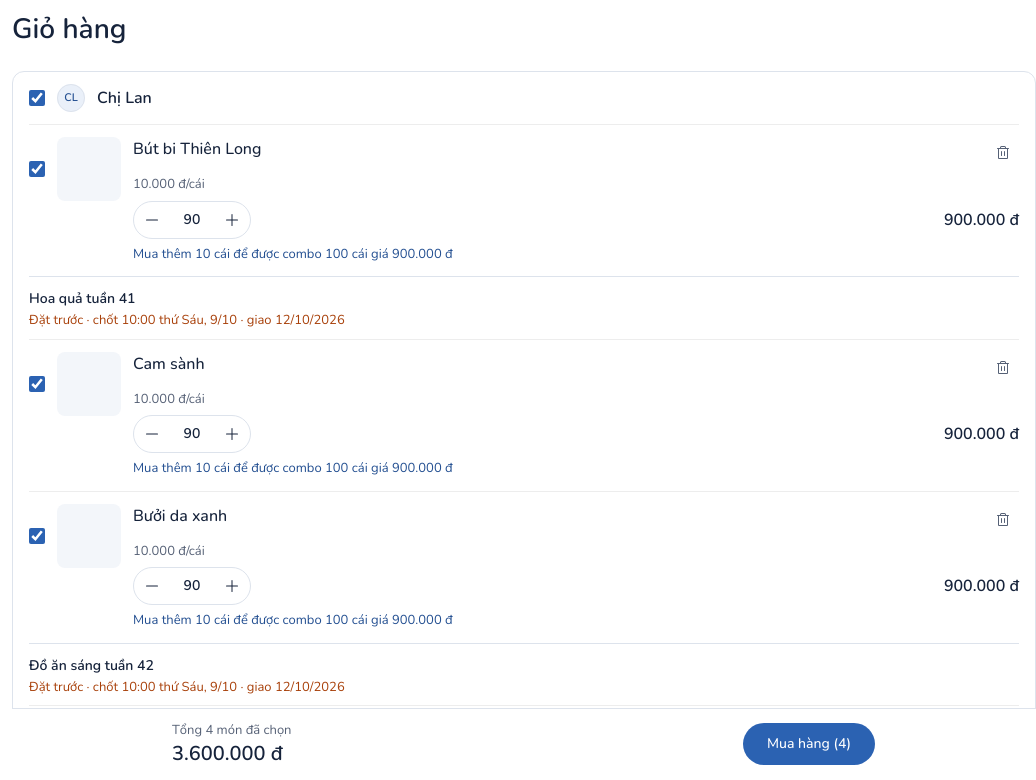
it: CartPage › groups pre-order products under their round, with its dates
This screenshot has width=1036, height=780.
expect the text "Đặt trước · chốt 10:00 thứ Sáu, 9/10 · giao 12/10/2026" below "Hoa quả tuần 41" is shown: met, box [29,311,345,329]
expect the link "Cam sành" is shown: met, box [133,352,205,376]
Step 1. Click the checkbox named "Chọn tất cả hàng của Chị Lan" → (37, 98), box [29,90,45,106]
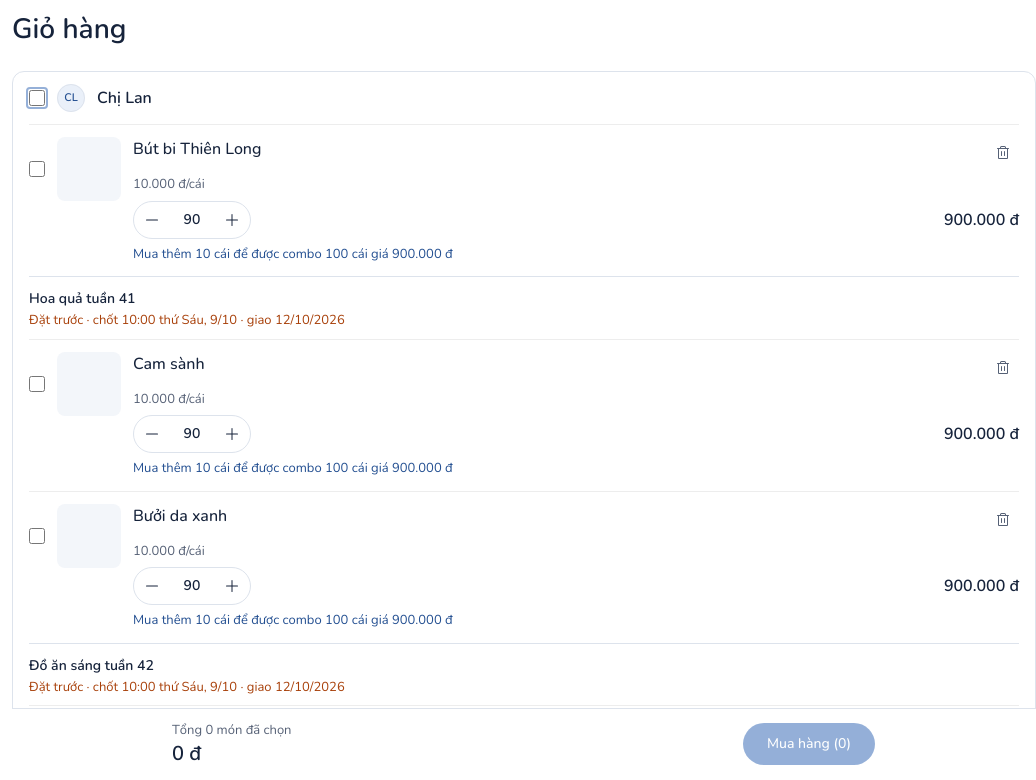
expect the text "Tổng 0 món đã chọn" is shown: met, box [172,720,292,740]
